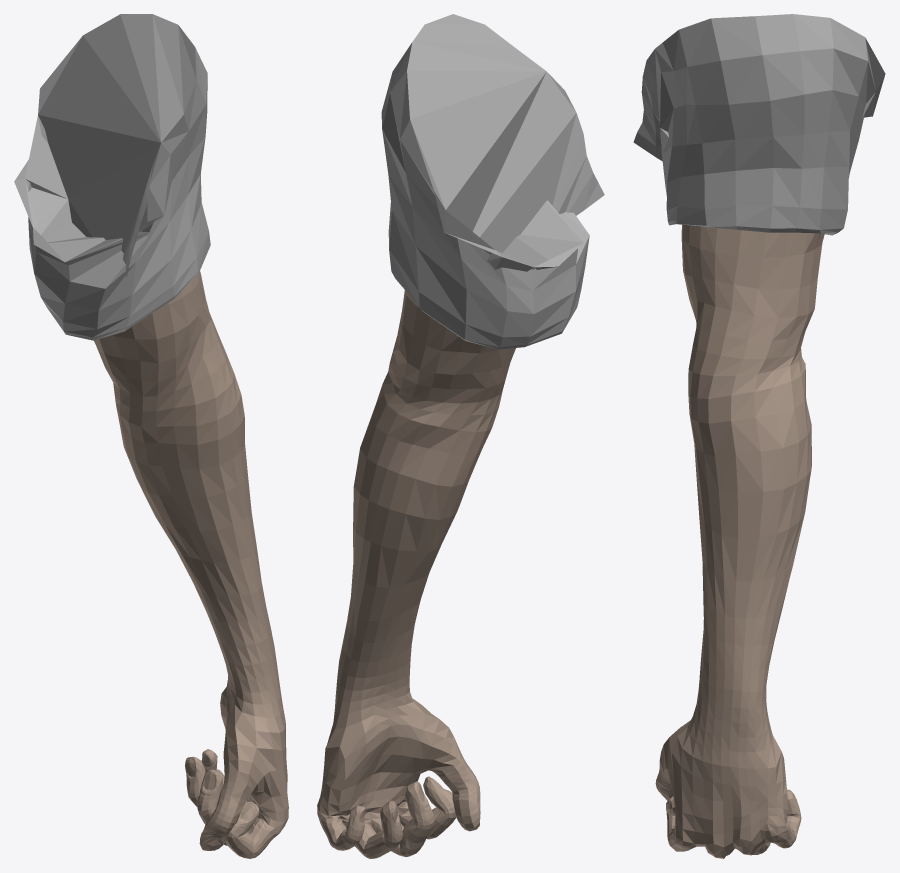
Rendered from edited-Human_left_arm.dae.
3 views of the same model, side by side, from view 1: azimuth 30°, elevation 25°; view 2: azimuth 150°, elevation 25°; view 3: azimuth 270°, elevation 25° (orthographic). The views are drawn at different scales.
Parts seen in each view (by area): view 1: human_20140307_human_20140307, human_20140307_worksuit; view 2: human_20140307_human_20140307, human_20140307_worksuit; view 3: human_20140307_human_20140307, human_20140307_worksuit.
Boxes of the visible parts, x1,y1,x2,y2 form: human_20140307_human_20140307: [94, 271, 288, 858]; human_20140307_worksuit: [14, 14, 210, 340]; human_20140307_human_20140307: [317, 290, 515, 858]; human_20140307_worksuit: [381, 14, 604, 349]; human_20140307_human_20140307: [655, 224, 824, 858]; human_20140307_worksuit: [633, 14, 885, 235].
Bounding box in the file's own units: 0.1702 × 0.1607 × 0.5763.
